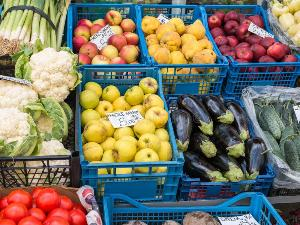apple: (84, 72, 176, 176), (206, 6, 298, 72), (75, 2, 143, 70)
cucumber: (252, 88, 300, 180)
eggplant: (174, 88, 270, 186)
lemon: (143, 2, 220, 76)
tomato: (0, 178, 100, 224)
